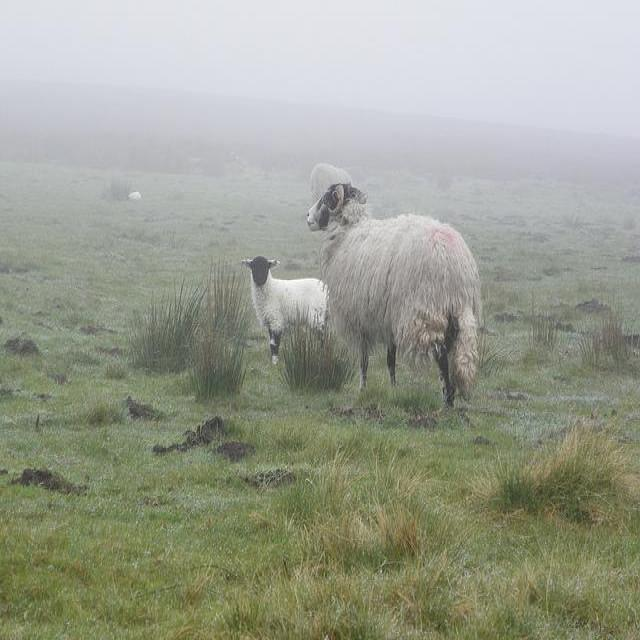Sheep: (306, 185, 485, 408), (241, 256, 328, 373), (310, 164, 353, 208)
